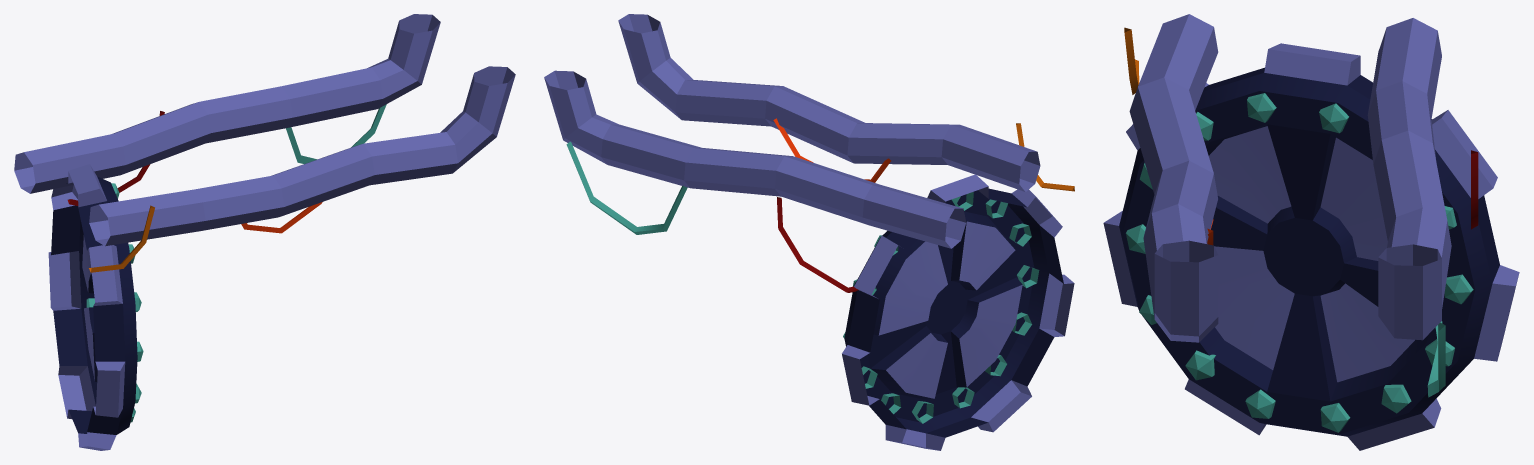
The model's file is MDL_Door.FBX.
3 renders of one model, left to right at view 1: azimuth 30°, elevation 25°; view 2: azimuth 150°, elevation 25°; view 3: azimuth 270°, elevation 25°, orthographic. The views are drawn at different scales.
Parts seen in each view (by area): view 1: Object001; view 2: Object001; view 3: Object001.
Part boxes in pixels (x1=…): Object001: x1=14, y1=14, x2=515, y2=450; Object001: x1=544, y1=14, x2=1074, y2=450; Object001: x1=1103, y1=14, x2=1519, y2=450.
Bounding box in the file's own units: 229 × 152 × 126.
